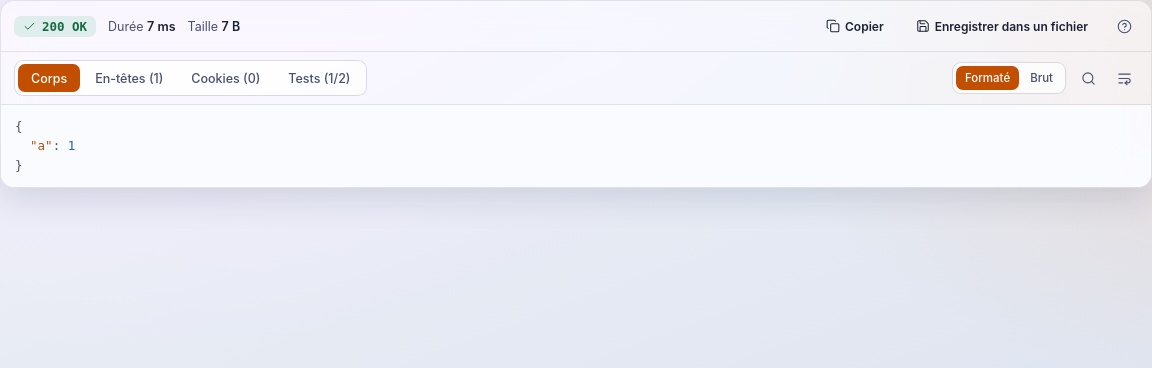
Test case: ResponsePanel translations › renders a response with a failing test in French, with plurals
This screenshot has width=1152, height=368.
Expected: the text "Durée" is shown, [108,18,144,34]
Click the tab named "Tests, 1 sur 2 réussis": {"x": 319, "y": 78} [275,64,363,92]
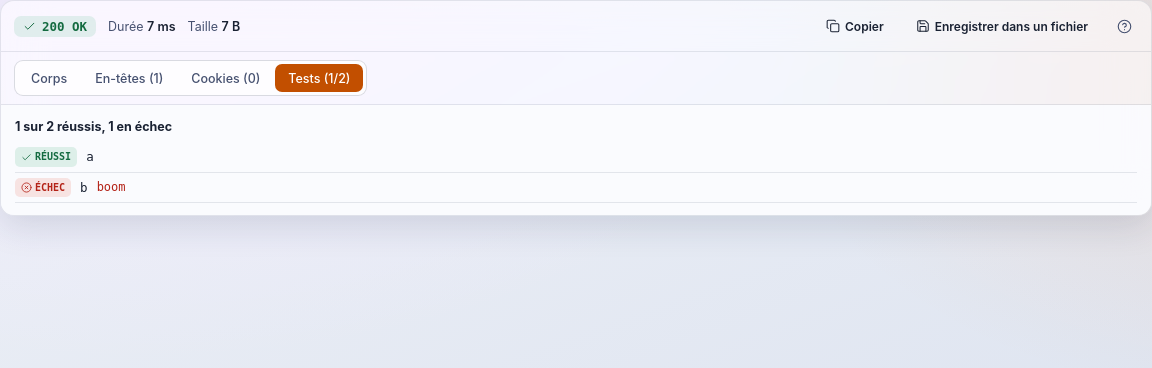
Expected: the text "1 sur 2 réussis, 1 en échec" is shown, [15,119,172,134]
Expected: the text "ÉCHEC" is shown, [15,178,71,197]
